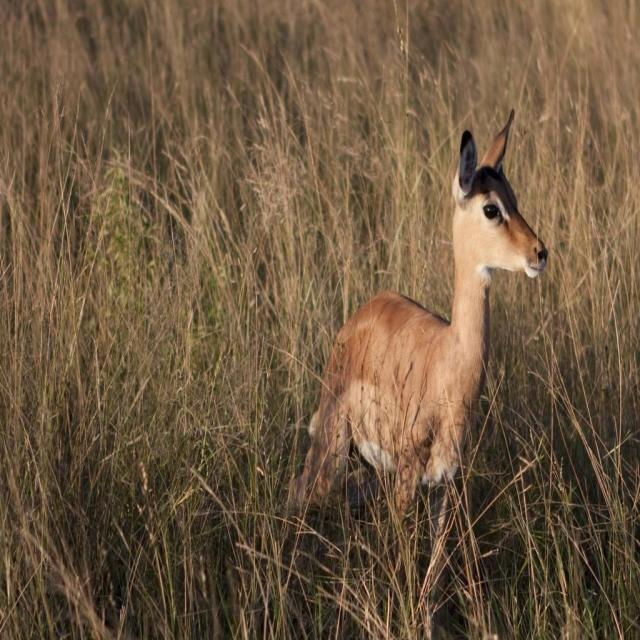Deer: (296, 104, 546, 590)
